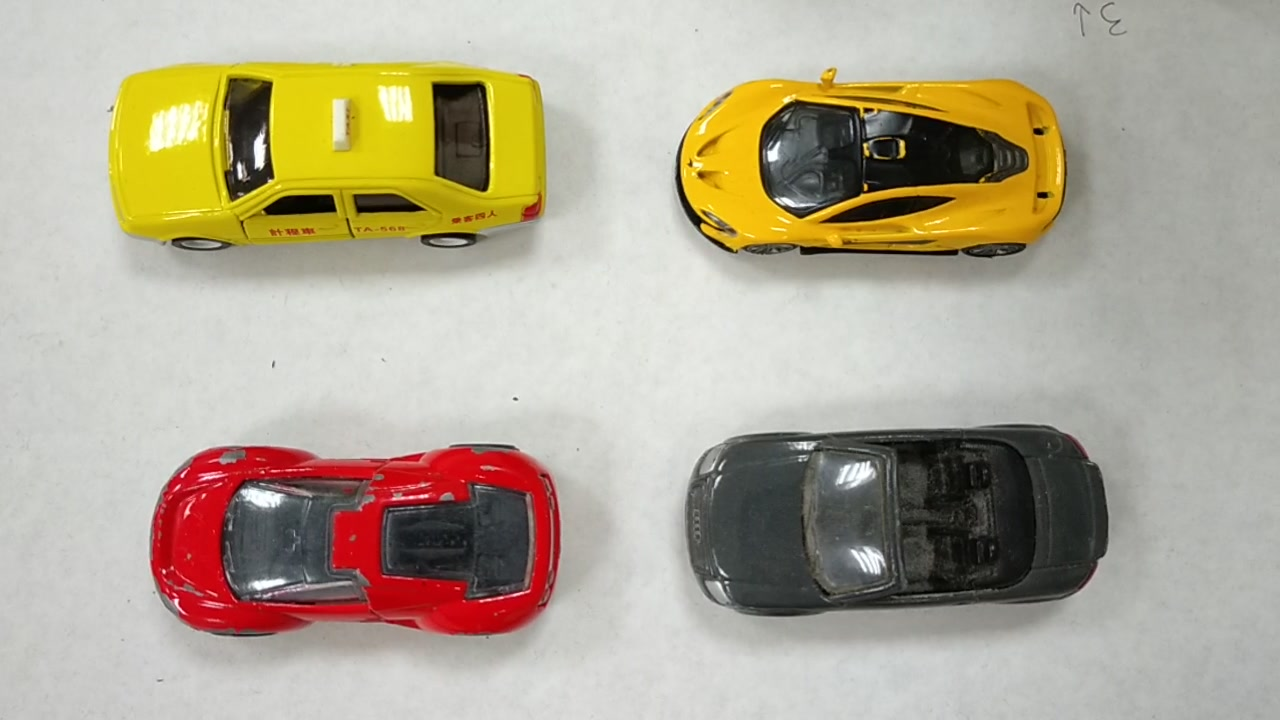car: (108, 69, 555, 235), (690, 427, 1107, 599), (147, 459, 566, 627), (675, 85, 1068, 241)
